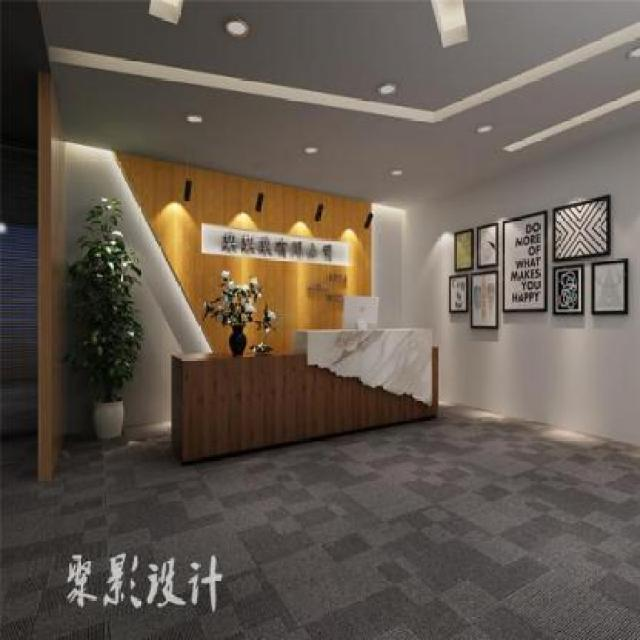frontdesk: (167, 312, 446, 466)
